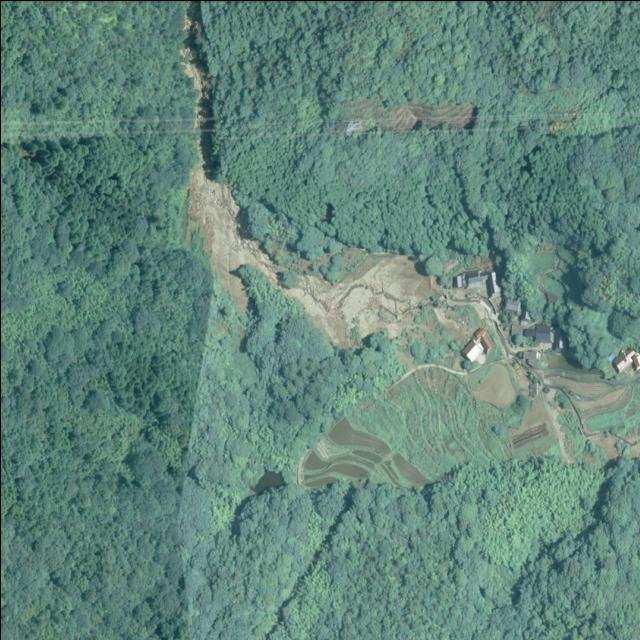landslide: (180, 3, 443, 348)
